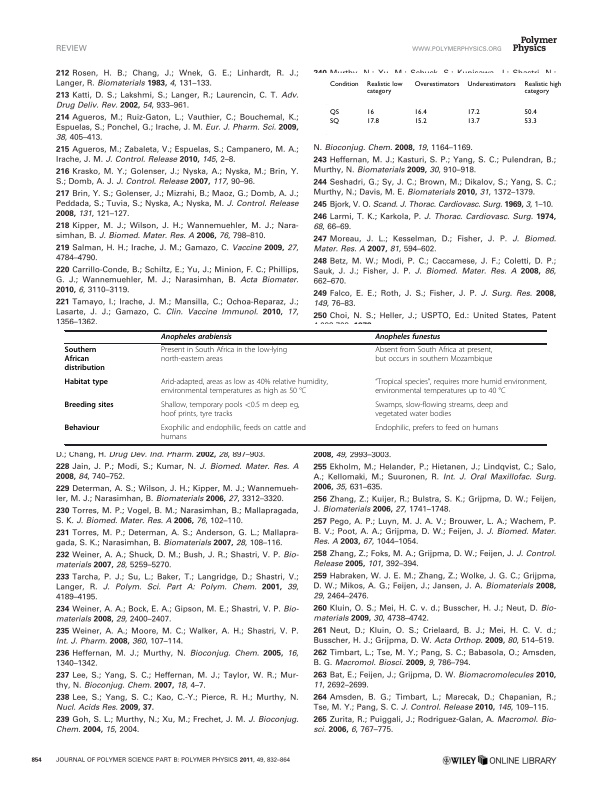borderless: (63, 329, 546, 444), (324, 78, 564, 136)
cell: (374, 378, 547, 397), (160, 378, 329, 397), (160, 424, 307, 443), (160, 401, 300, 420), (374, 401, 509, 420), (160, 346, 288, 365), (374, 346, 493, 365), (374, 424, 499, 434), (63, 346, 106, 374), (160, 333, 233, 342), (523, 80, 562, 96), (365, 80, 403, 96), (374, 333, 441, 342), (63, 401, 115, 411), (63, 378, 109, 388), (466, 80, 516, 89), (413, 80, 460, 89), (63, 424, 100, 434), (329, 80, 359, 89), (413, 108, 427, 117), (466, 108, 480, 117), (523, 108, 537, 117), (365, 117, 379, 126), (413, 117, 427, 126), (466, 117, 480, 126), (523, 117, 537, 126), (329, 108, 339, 117), (329, 117, 339, 126), (365, 108, 374, 117)
